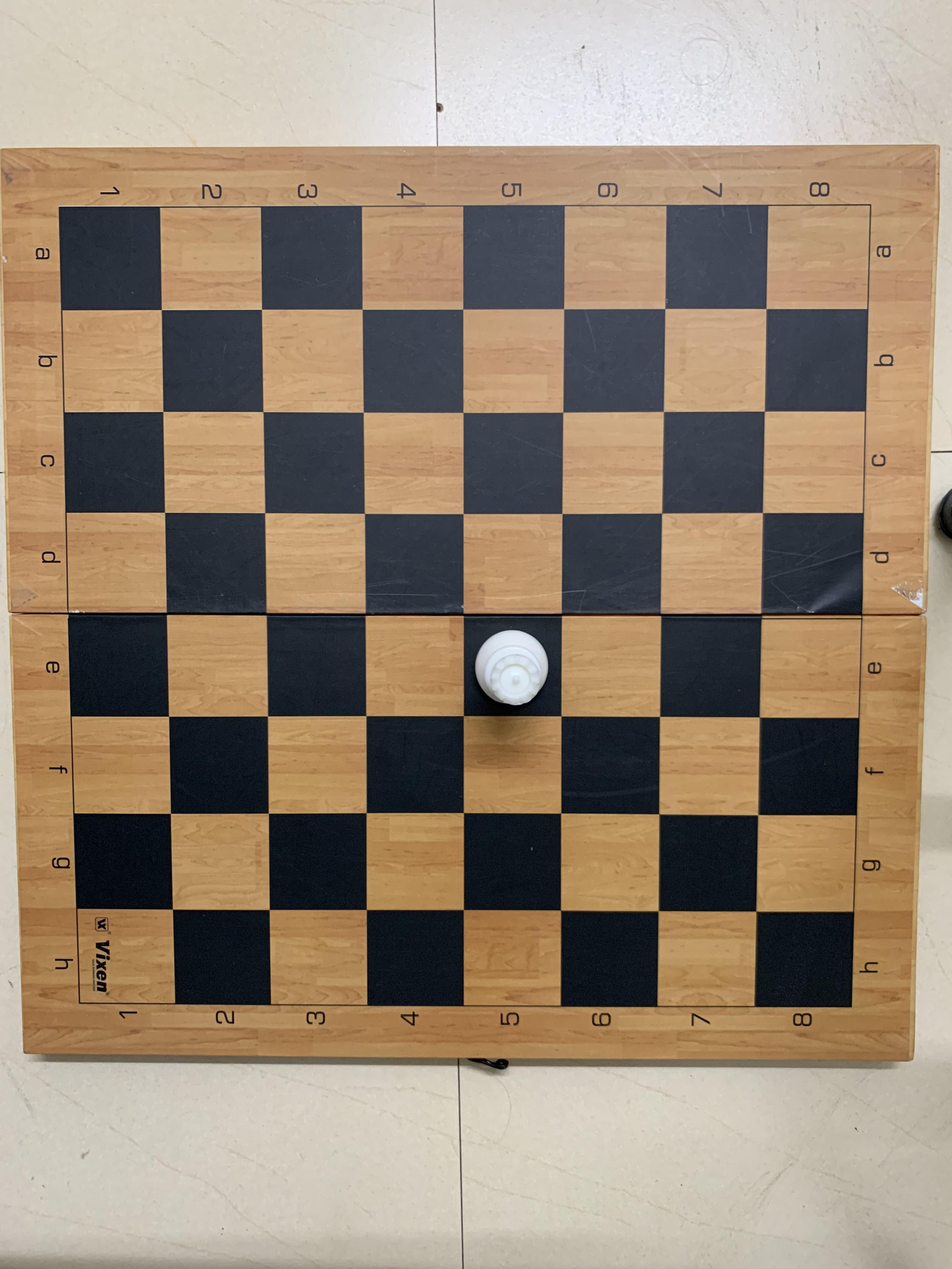white_queen: (463, 614, 559, 711)
